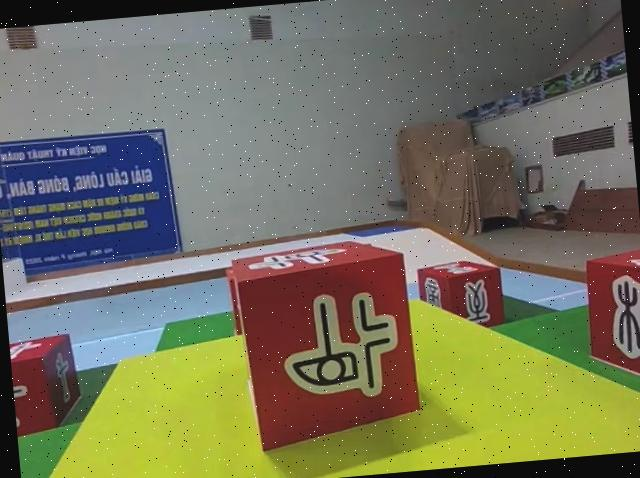R2 Fake: (578, 240, 640, 390), (413, 253, 508, 336)
R2 Real: (227, 233, 425, 458), (8, 329, 87, 445)
